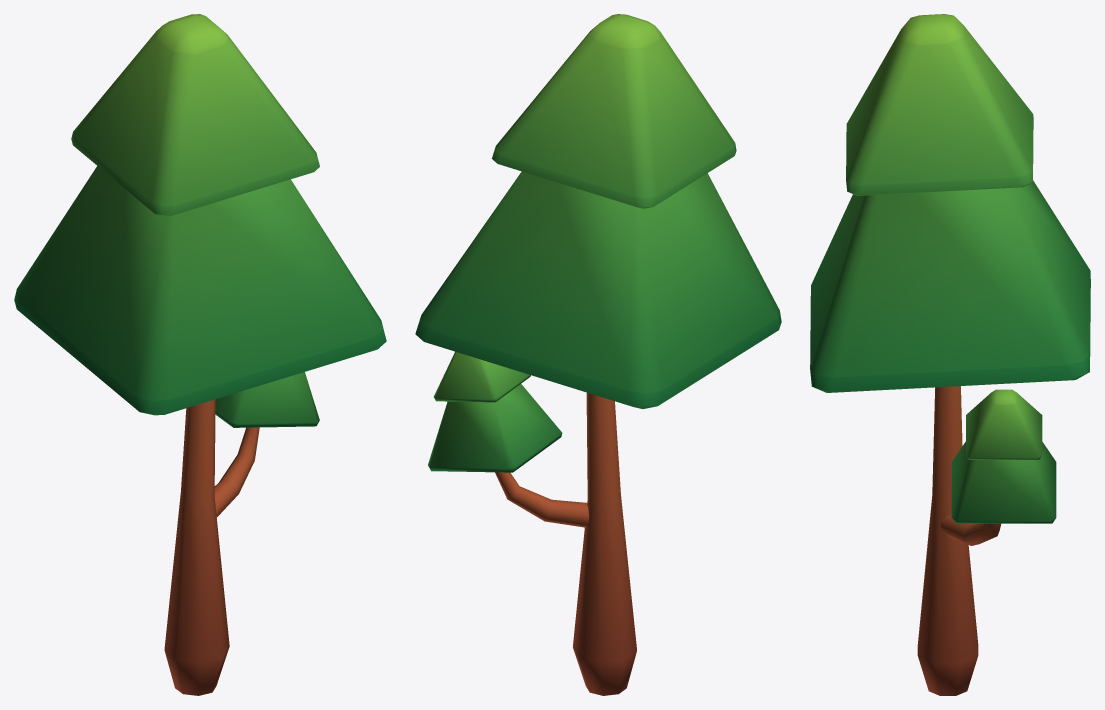
The model's file is Tree_4_A.glb.
3 renders of one model, left to right at view 1: azimuth 30°, elevation 25°; view 2: azimuth 150°, elevation 25°; view 3: azimuth 270°, elevation 25°, orthographic.
Parts seen in each view (by area): view 1: Tree_4_A_Color1; view 2: Tree_4_A_Color1; view 3: Tree_4_A_Color1.
Part boxes in pixels (box(x1,y1,x2,y2)): Tree_4_A_Color1: box(14, 14, 386, 695); Tree_4_A_Color1: box(415, 14, 781, 695); Tree_4_A_Color1: box(810, 14, 1090, 695).
Bounding box in the file's own units: 2.01 × 5.27 × 2.
1 material, 1 textured.
